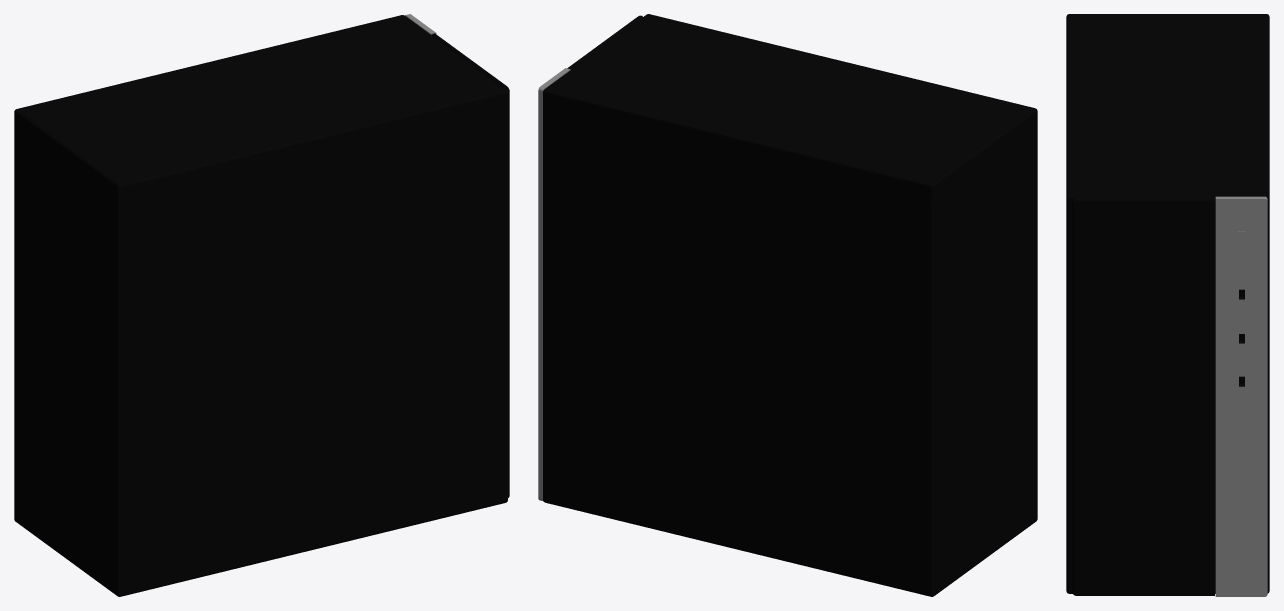
Rendered from ComputerV2.fbx.
3 views of the same model, side by side, from view 1: azimuth 30°, elevation 25°; view 2: azimuth 150°, elevation 25°; view 3: azimuth 270°, elevation 25° (orthographic). The views are drawn at different scales.
Parts seen in each view (by area): view 1: Computer; view 2: Computer; view 3: Computer.
Boxes of the visible parts, x1,y1,x2,y2 form: Computer: [14, 14, 509, 596]; Computer: [538, 14, 1037, 596]; Computer: [1066, 14, 1269, 596].
Bounding box in the file's own units: 848 × 844 × 390.
